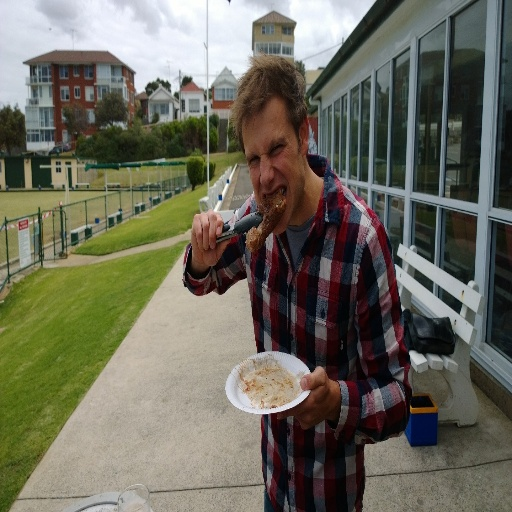hand: (278, 362, 332, 436), (186, 203, 230, 274)
